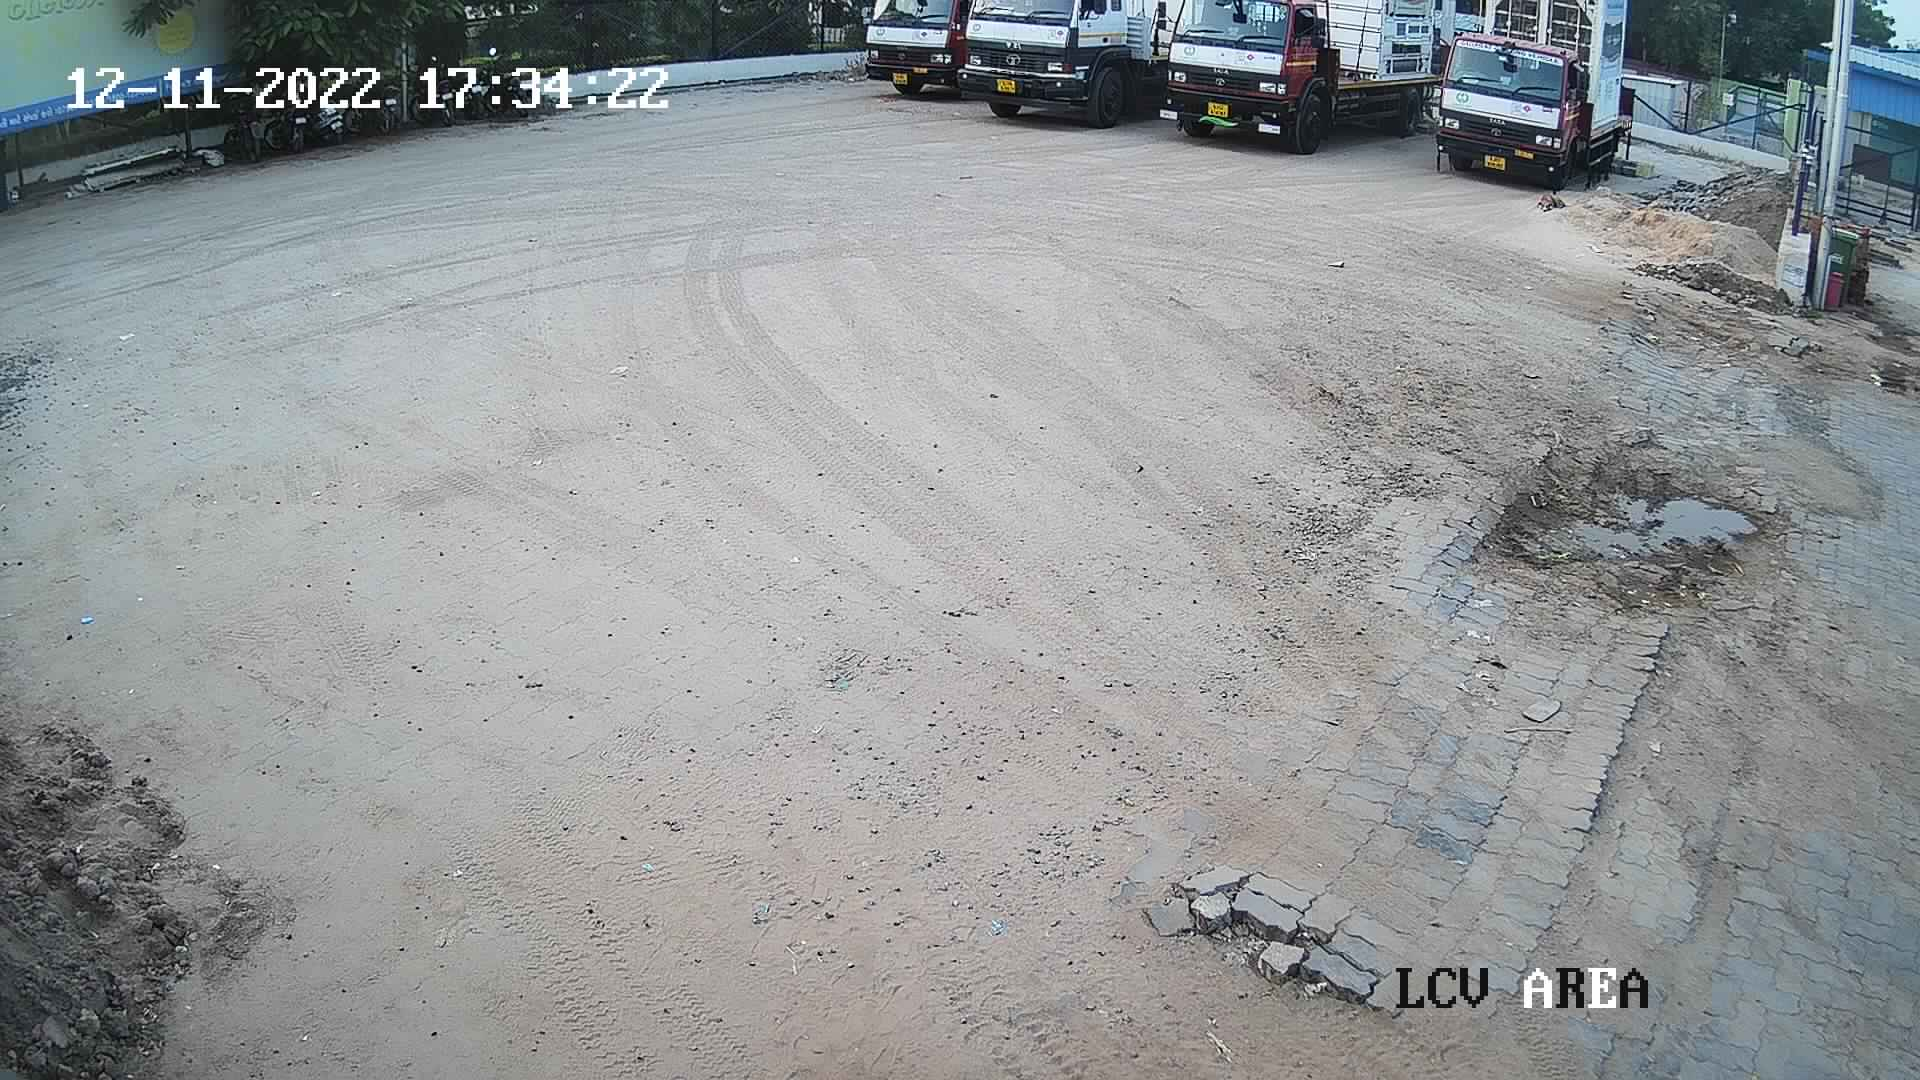HMV: (1142, 1, 1458, 152), (1414, 1, 1651, 191), (945, 1, 1185, 132), (837, 0, 981, 95)
